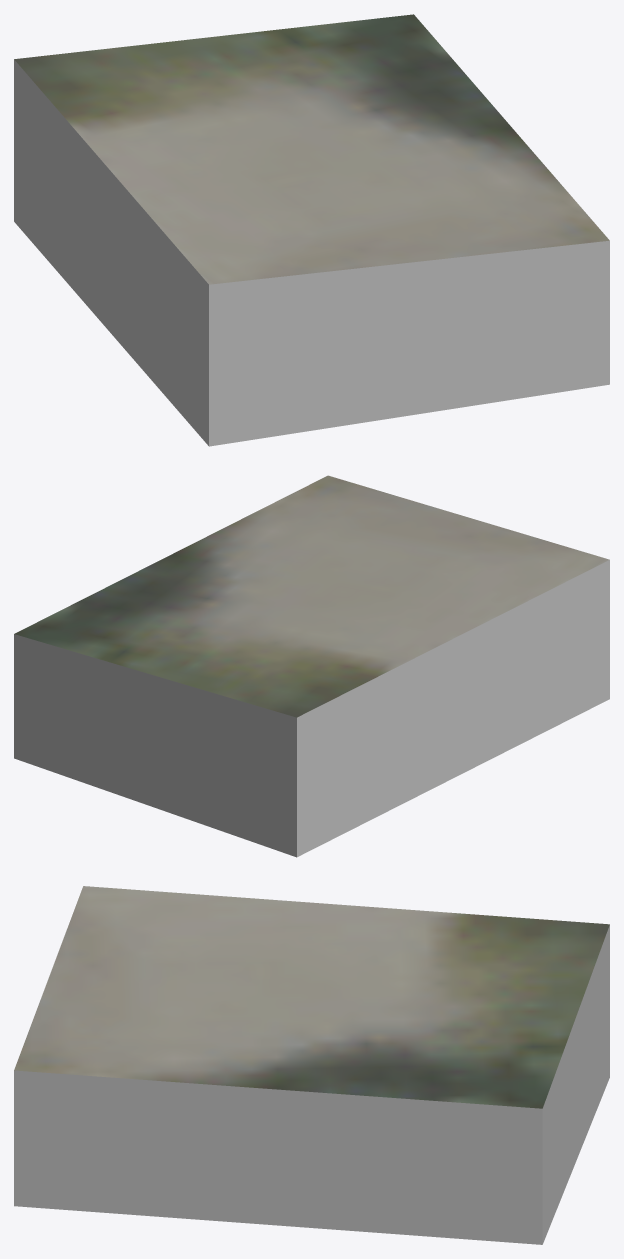
File: DEBW_0010007TxhO.gltf
The picture shows the model from 3 angles, top to bottom: view 1: azimuth 30°, elevation 25°; view 2: azimuth 150°, elevation 25°; view 3: azimuth 270°, elevation 25°; orthographic projection. The views are drawn at different scales.
Parts seen in each view (by area): view 1: Z_UP; view 2: Z_UP; view 3: Z_UP.
Part boxes in pixels (box(x1,y1,x2,y2)): Z_UP: box(14, 14, 609, 446); Z_UP: box(14, 475, 609, 857); Z_UP: box(14, 886, 609, 1244).
Size of the model in its own units: 7.61 by 2.63 by 9.29.
2 materials, 1 textured.
